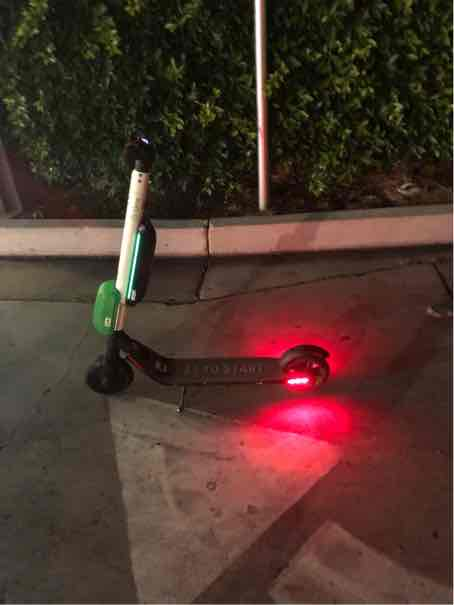scooter: (73, 118, 345, 405)
